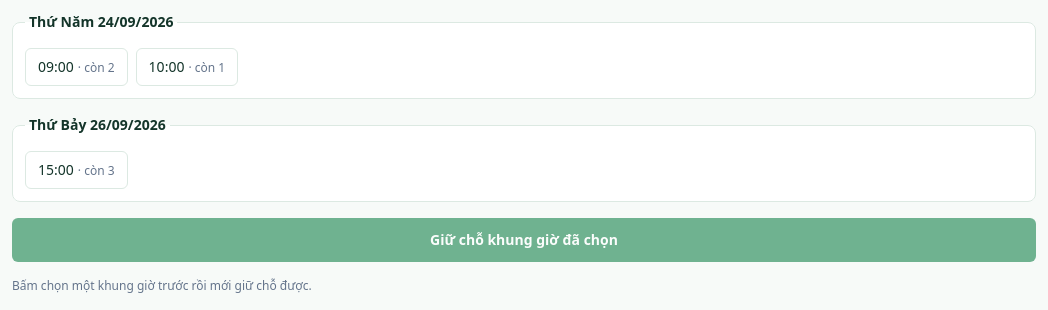
Test case: 1. lưới chọn giờ › chưa chọn giờ thì nút Giữ chỗ bị khoá; chọn rồi thì mở và ô ẩn mang đúng giờ
Expected: the button "Giữ chỗ khung giờ đã chọn" is disabled, [12,218,1036,262]
Click the button "15:00· còn 3" at (76, 170), box [25,151,128,189]
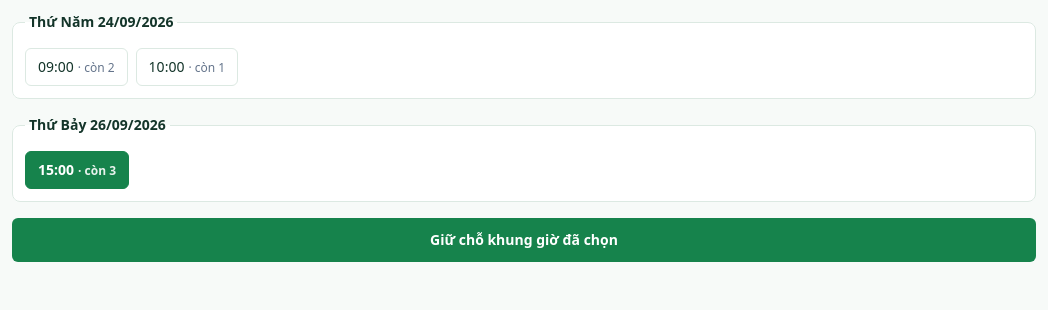
Expected: the button "Giữ chỗ khung giờ đã chọn" is enabled, [12,218,1036,262]
